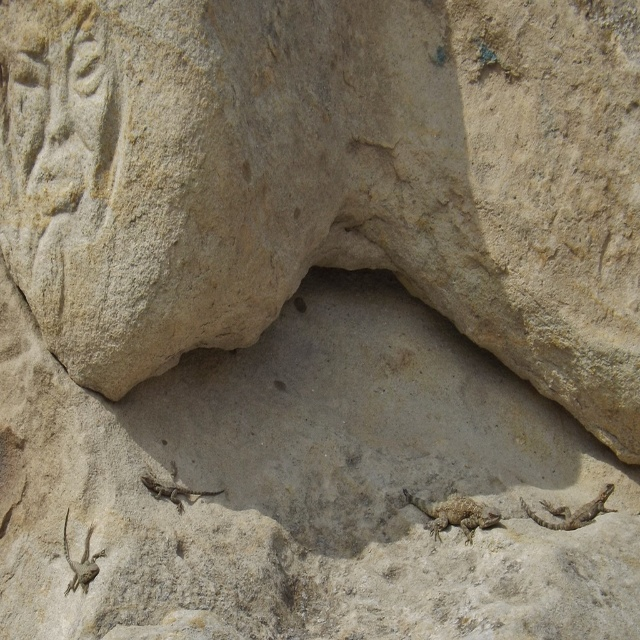Lizard: (518, 477, 616, 531), (403, 479, 495, 531), (142, 463, 224, 520), (61, 506, 101, 585)
